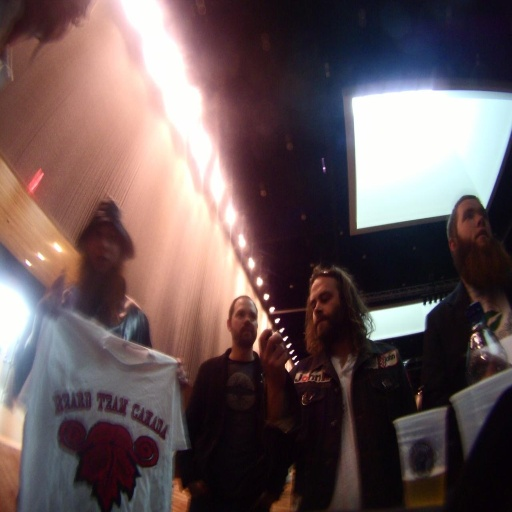hand: (36, 268, 72, 322), (257, 328, 290, 385), (174, 355, 188, 390)
